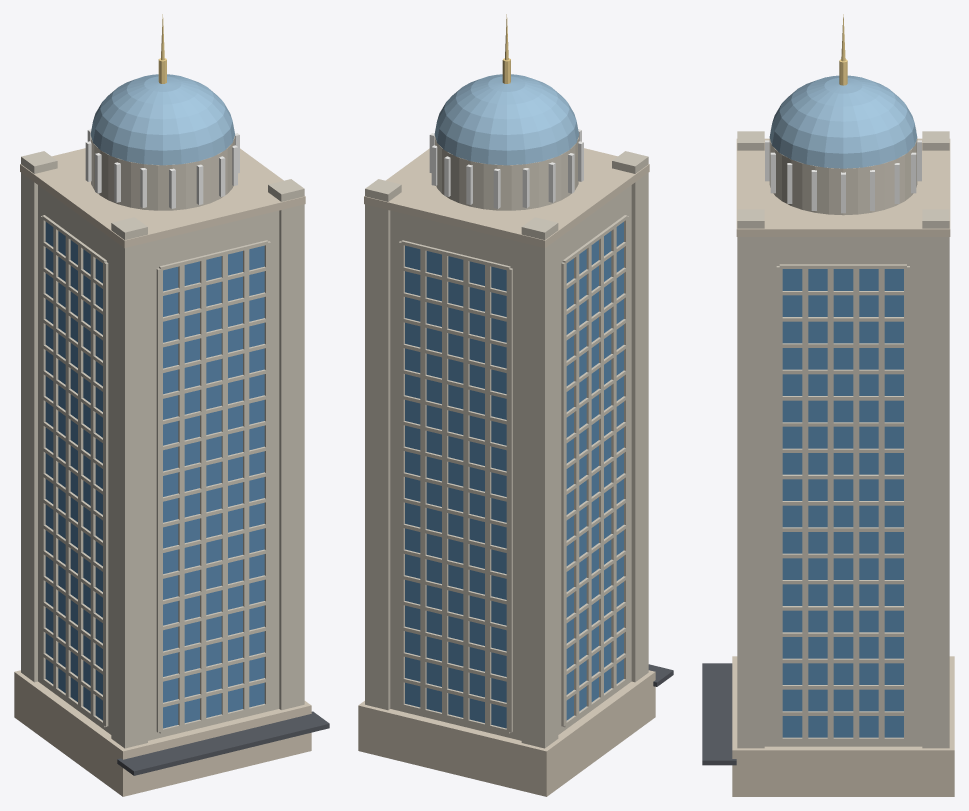
File: lux_tower_a.glb
3 renders of one model, left to right at view 1: azimuth 30°, elevation 25°; view 2: azimuth 150°, elevation 25°; view 3: azimuth 270°, elevation 25°, orthographic. The views are drawn at different scales.
Parts seen in each view (by area): view 1: stone, glass, stone_dark, glass_light, dark, white; view 2: stone, glass, stone_dark, glass_light, white; view 3: stone, glass, stone_dark, glass_light, dark, white.
Boxes of the visible parts, x1=… form: stone: x1=21, y1=132, x2=304, y2=748; glass: x1=45, y1=222, x2=264, y2=728; stone_dark: x1=14, y1=148, x2=311, y2=796; glass_light: x1=90, y1=74, x2=234, y2=165; dark: x1=117, y1=711, x2=329, y2=775; white: x1=85, y1=129, x2=239, y2=208; stone: x1=365, y1=136, x2=648, y2=748; glass: x1=405, y1=222, x2=623, y2=728; stone_dark: x1=358, y1=148, x2=655, y2=796; glass_light: x1=434, y1=74, x2=578, y2=165; white: x1=429, y1=129, x2=583, y2=208; stone: x1=737, y1=131, x2=949, y2=748; glass: x1=782, y1=269, x2=903, y2=737; stone_dark: x1=732, y1=138, x2=954, y2=796; glass_light: x1=769, y1=75, x2=917, y2=168; dark: x1=702, y1=663, x2=736, y2=765; white: x1=765, y1=128, x2=921, y2=213.
Bounding box in the file's own units: 27 × 94.91 × 29.5.
